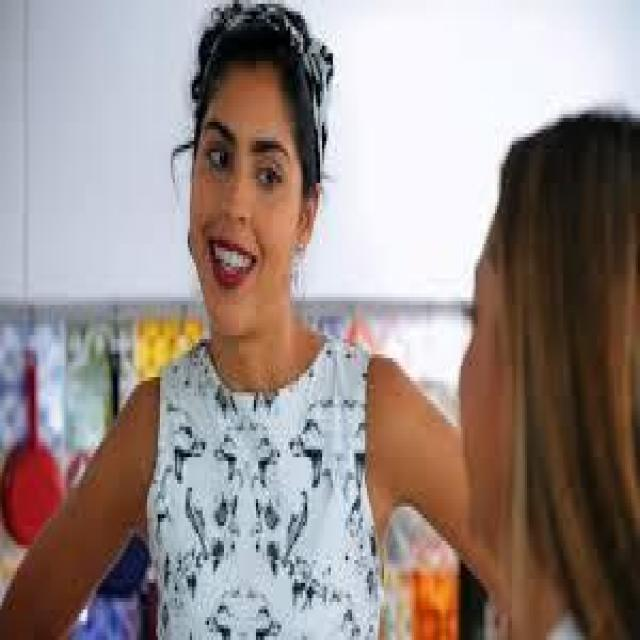person: (9, 0, 448, 636), (424, 103, 621, 636)
